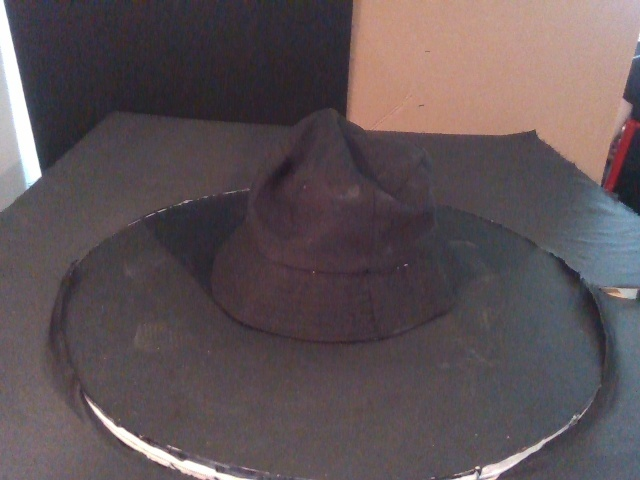hat: (214, 110, 447, 341)
